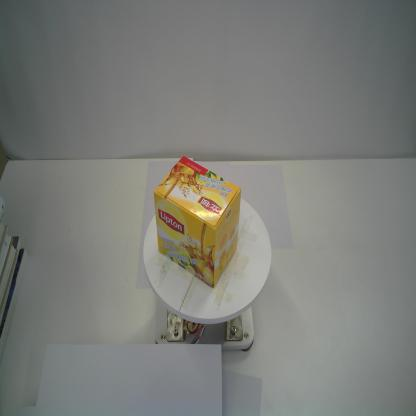Instant Drink: (153, 154, 242, 289)
